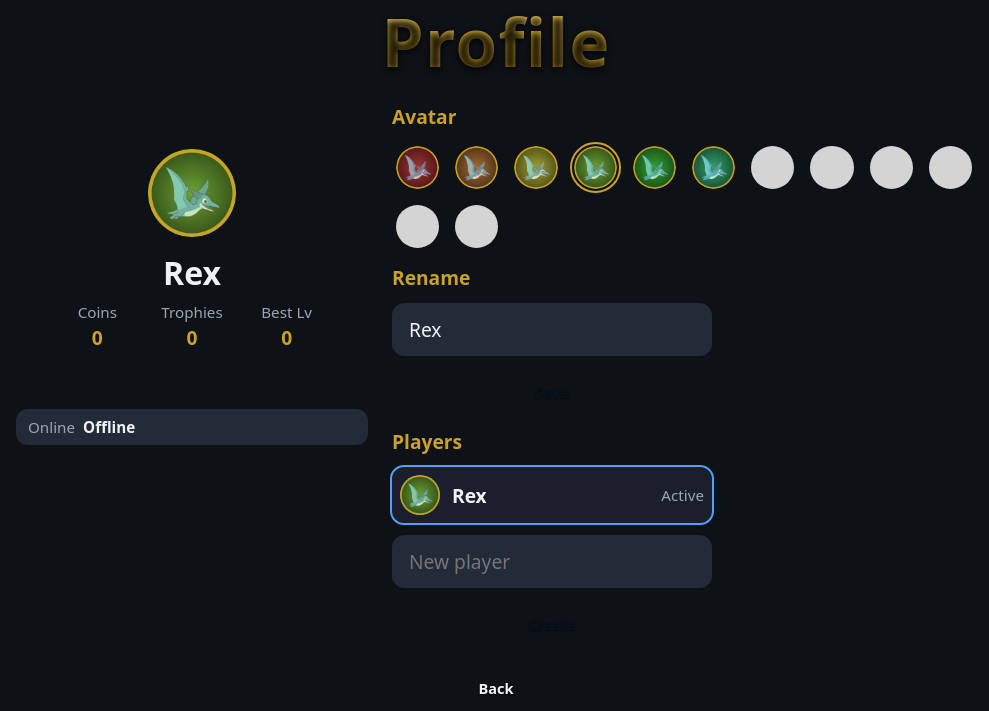
Test: ProfileScreen › criar um novo jogador o adiciona e o torna ativo
Type "Ptero" into the field with test id "create-input" at (552,562), box x1=392 y1=535 x2=712 y2=588
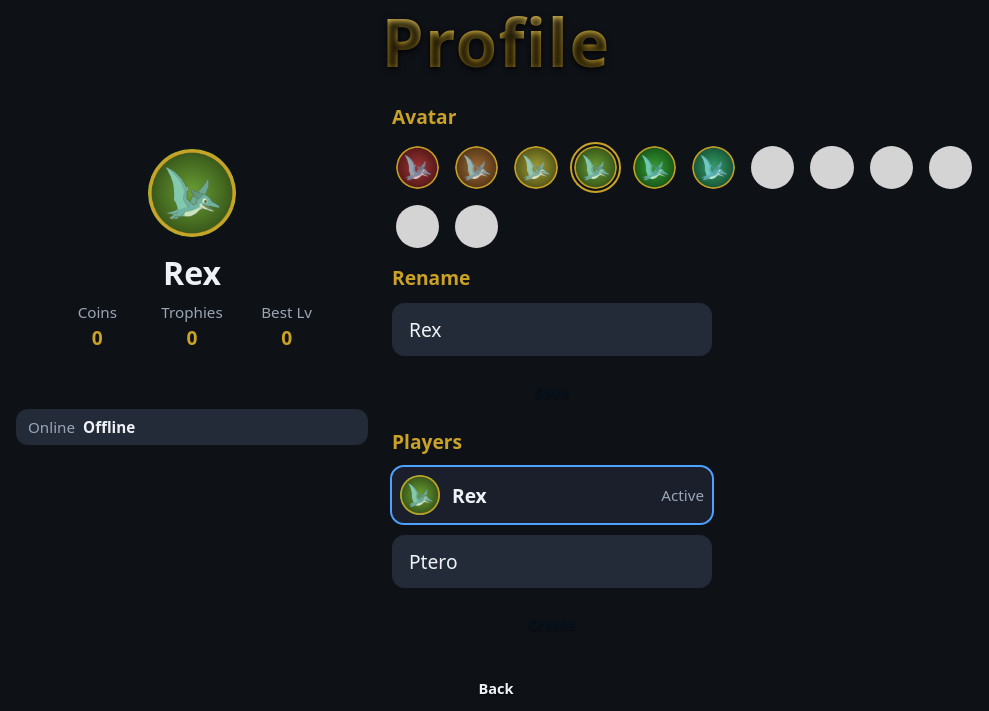
Submit the form with test id "create-form", box x1=392 y1=535 x2=712 y2=648
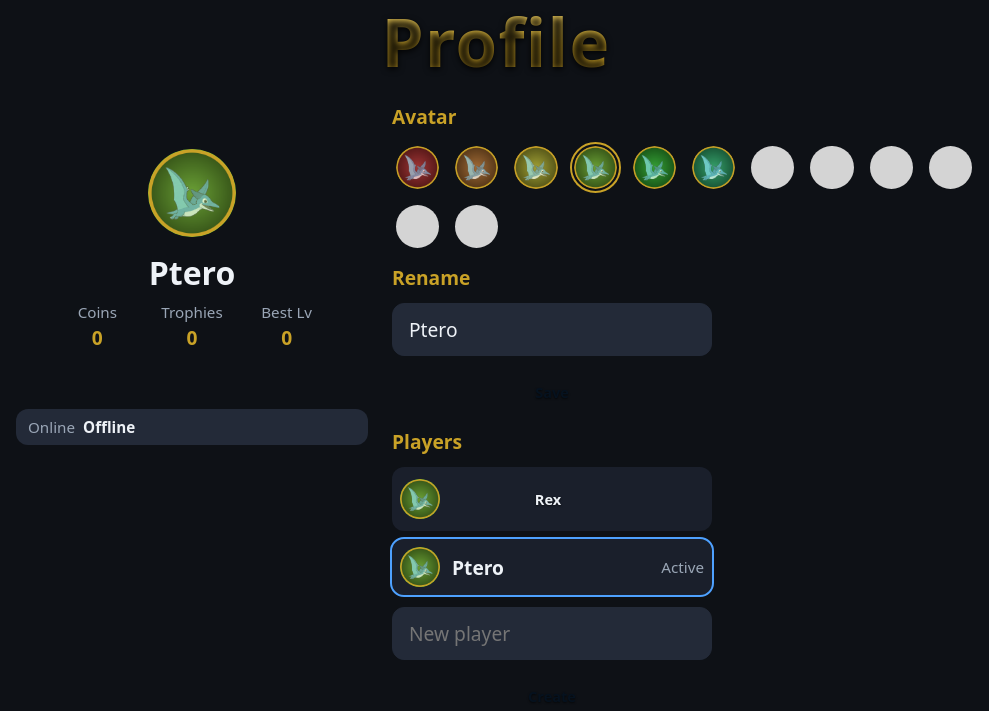
Result: the 1st text "Ptero" is shown at x1=149 y1=251 x2=235 y2=294
